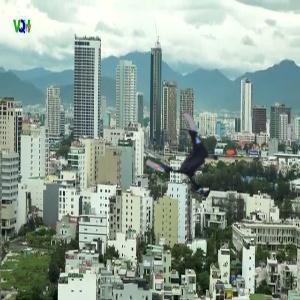drone: (153, 116, 227, 190)
